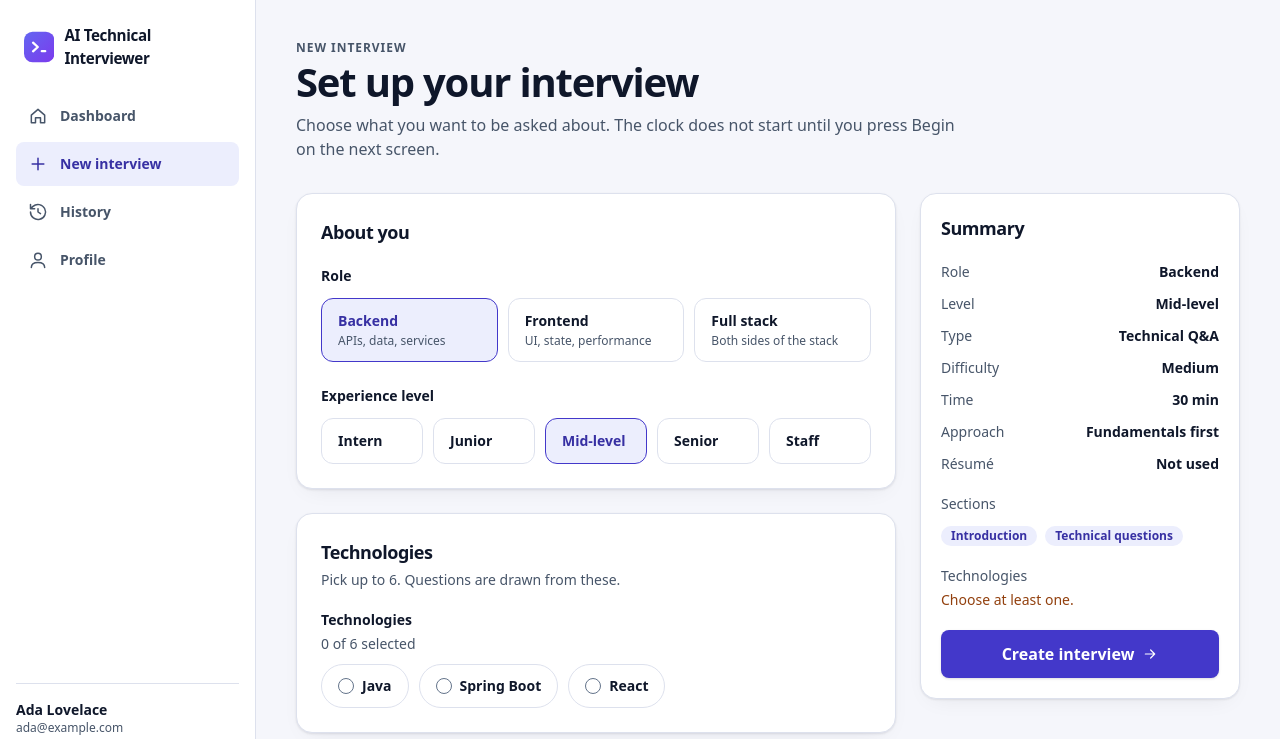
Scenario: SetupPage › summarises the choices, including the sections of the chosen type
Expected: the text "Choose at least one." is shown, left=941, top=590, right=1074, bottom=609
Expected: the text "Introduction" is shown, left=941, top=526, right=1037, bottom=546
Click the checkbox labelled "Spring Boot" at coordinates (488, 686), box left=418, top=664, right=558, bottom=708
(page scrolled)
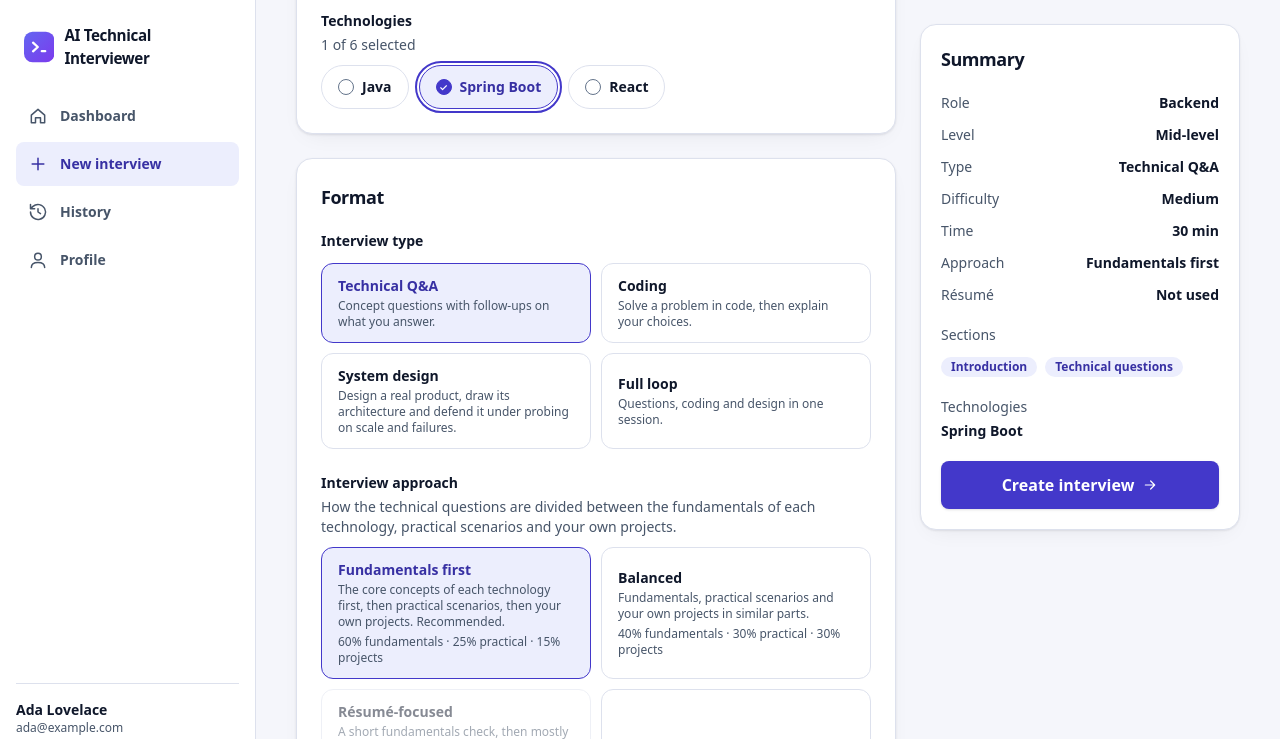
Click the radio button labelled "System design" at coordinates (456, 401), box left=321, top=353, right=591, bottom=449
(page scrolled)
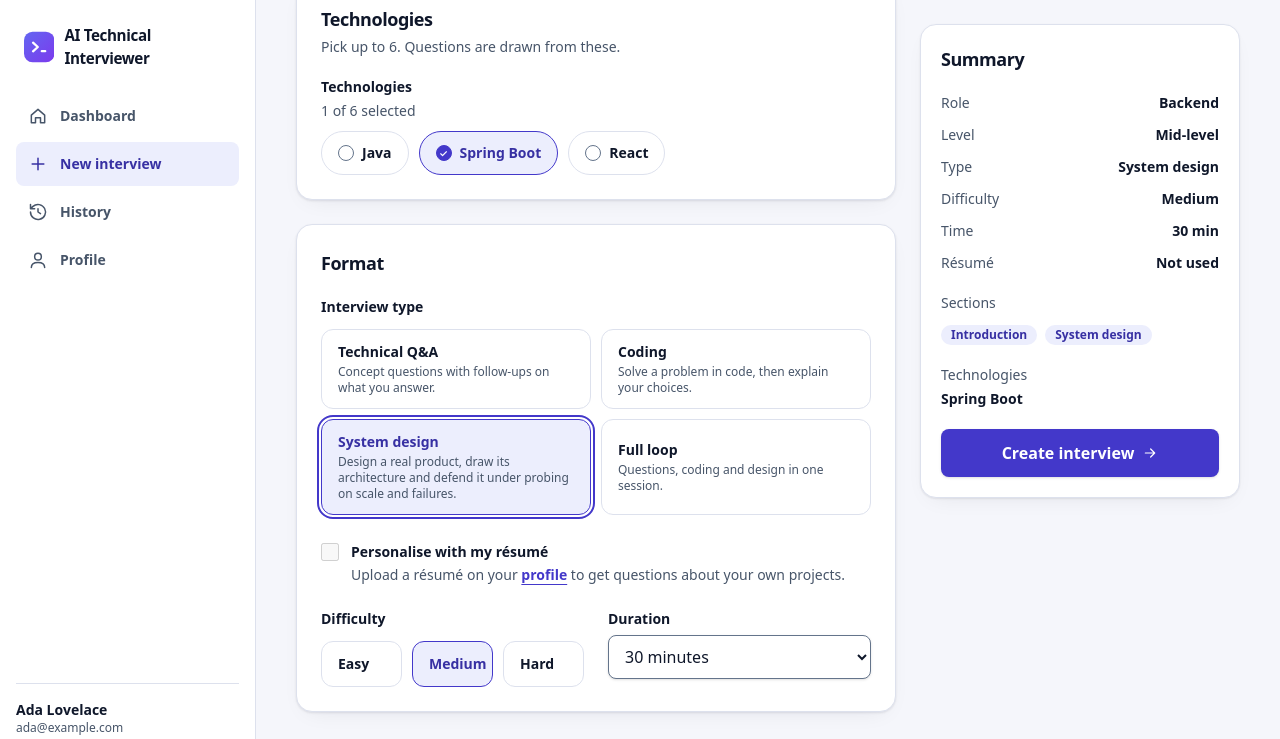
Result: the text "Spring Boot" is shown at left=941, top=389, right=1023, bottom=408
Result: the 1st text "System design" is shown at left=1118, top=157, right=1219, bottom=177
